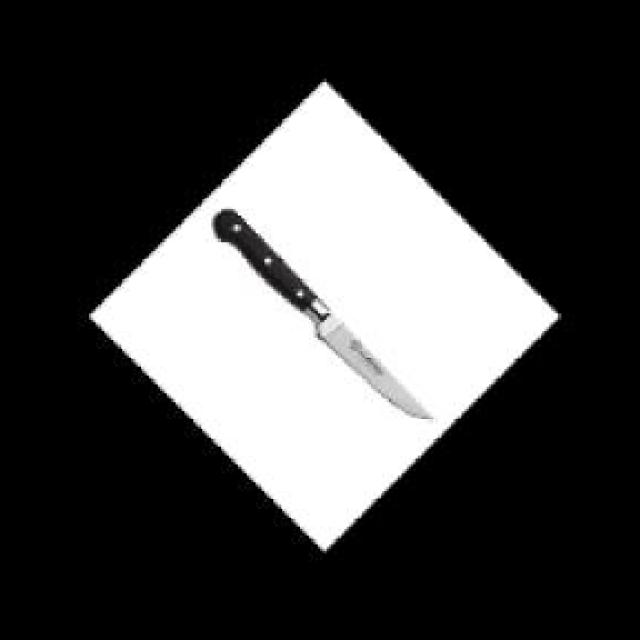knife: (205, 201, 441, 422)
